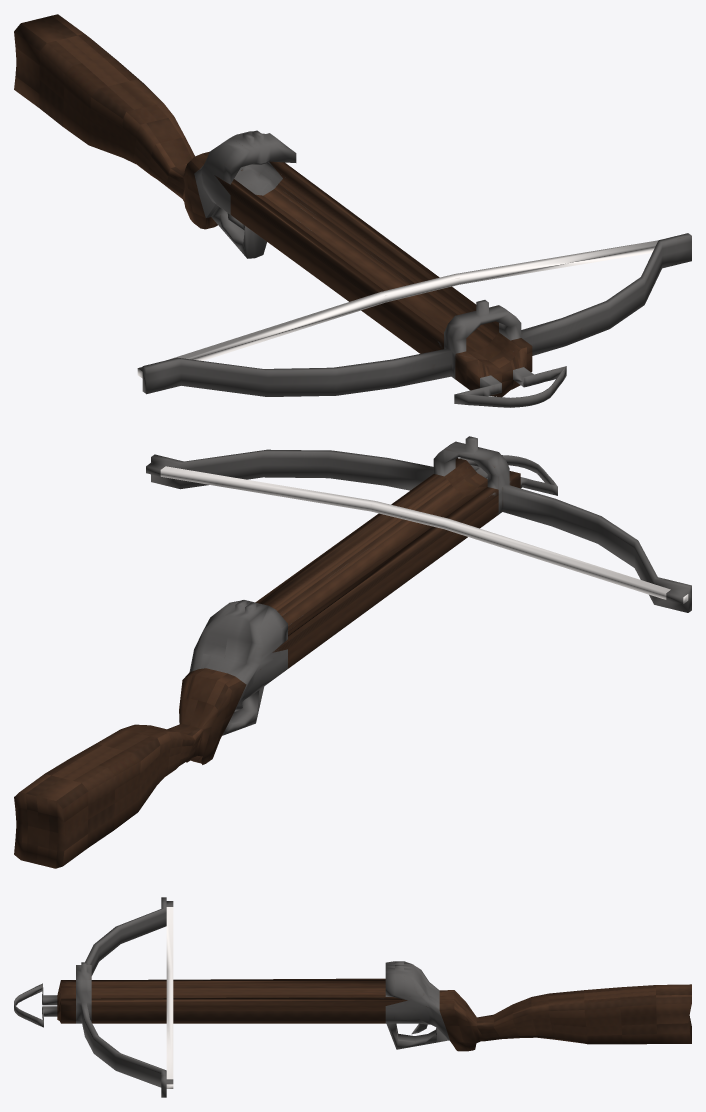
File: CrossbowNo.1Coloured.fbx
3 views of the same model, one above another, from view 1: azimuth 30°, elevation 25°; view 2: azimuth 150°, elevation 25°; view 3: azimuth 270°, elevation 25° (orthographic). The views are drawn at different scales.
Visible parts, largest first — view 1: Cube; view 2: Cube; view 3: Cube.
Part boxes in pixels (left/top/right/bottom): Cube: left=14, top=14, right=691, bottom=407; Cube: left=14, top=436, right=691, bottom=868; Cube: left=14, top=897, right=691, bottom=1097.
Bounding box in the file's own units: 7.08 × 1.53 × 11.08.
1 material, 1 textured.
